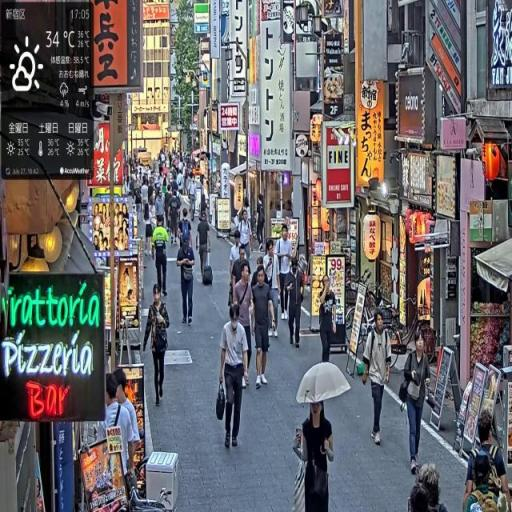person: (216, 301, 251, 452), (460, 410, 511, 512), (400, 333, 433, 476), (362, 309, 395, 450), (106, 369, 143, 487), (299, 396, 336, 512), (144, 283, 172, 410), (233, 263, 257, 393), (252, 266, 277, 389), (317, 273, 339, 366), (265, 238, 284, 339), (177, 232, 197, 327), (287, 256, 306, 349), (277, 225, 295, 319), (152, 213, 170, 299), (196, 211, 212, 287), (168, 185, 182, 246)
